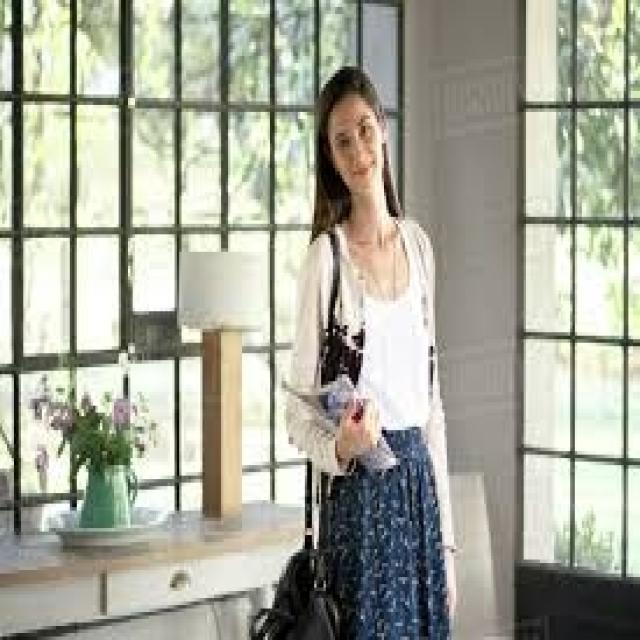NotFall: (227, 65, 479, 640)
